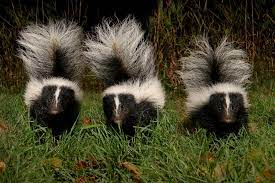skunk: (86, 18, 167, 134), (180, 40, 256, 134), (23, 25, 86, 132)
